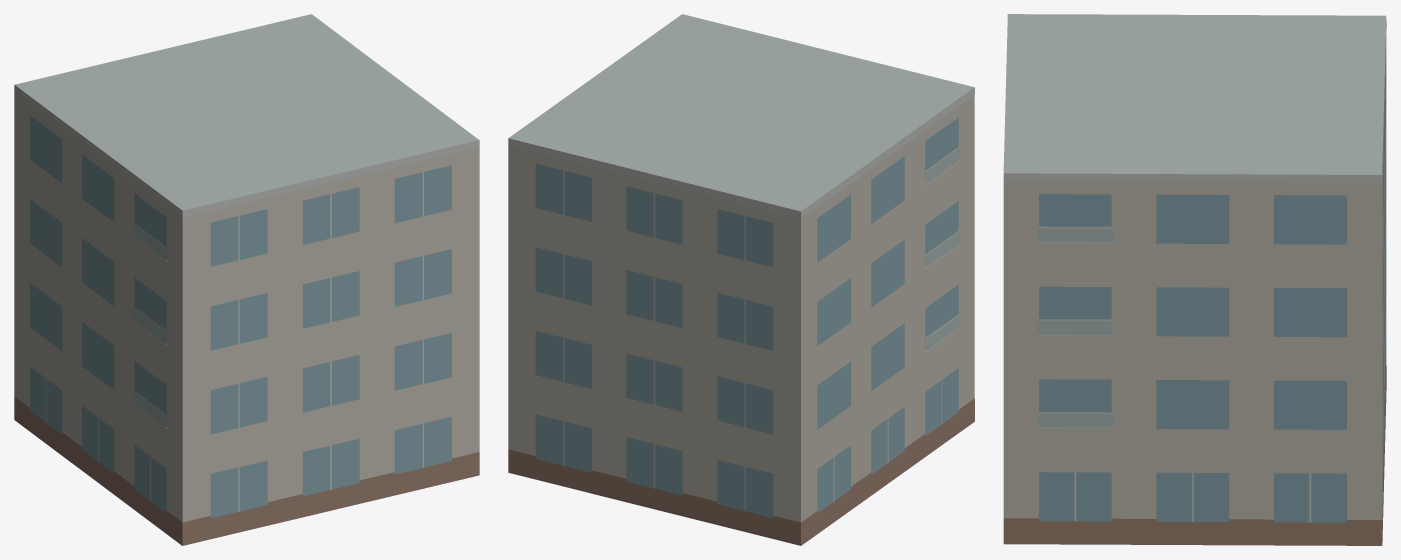
The model's file is survey-upis-32661777.glb.
3 renders of one model, left to right at view 1: azimuth 30°, elevation 25°; view 2: azimuth 150°, elevation 25°; view 3: azimuth 270°, elevation 25°, orthographic. The views are drawn at different scales.
Parts seen in each view (by area): view 1: survey-upis-32661777.tmp; view 2: survey-upis-32661777.tmp; view 3: survey-upis-32661777.tmp.
Part boxes in pixels (x1=…): survey-upis-32661777.tmp: x1=14, y1=14, x2=479, y2=545; survey-upis-32661777.tmp: x1=508, y1=14, x2=974, y2=545; survey-upis-32661777.tmp: x1=1003, y1=14, x2=1386, y2=545.
Size of the model in its own units: 10.28 by 11 by 10.3.
